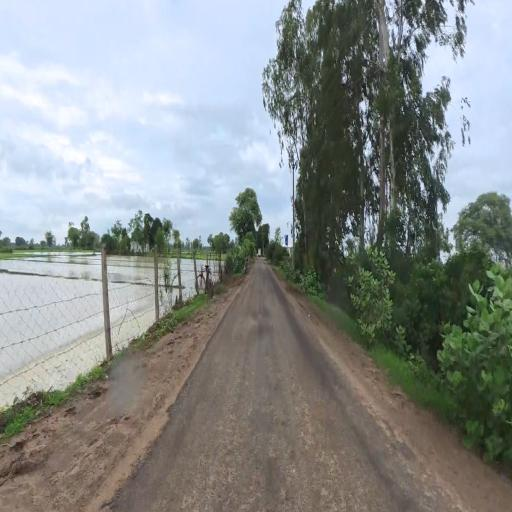edge_damage: (356, 380, 451, 502), (88, 395, 183, 502)
